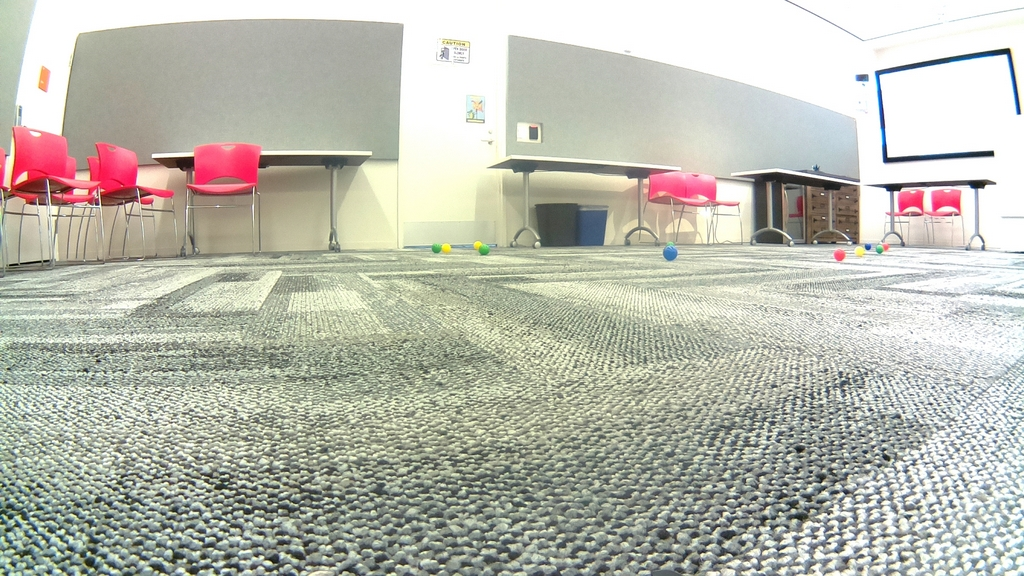ball: (854, 246, 863, 260)
